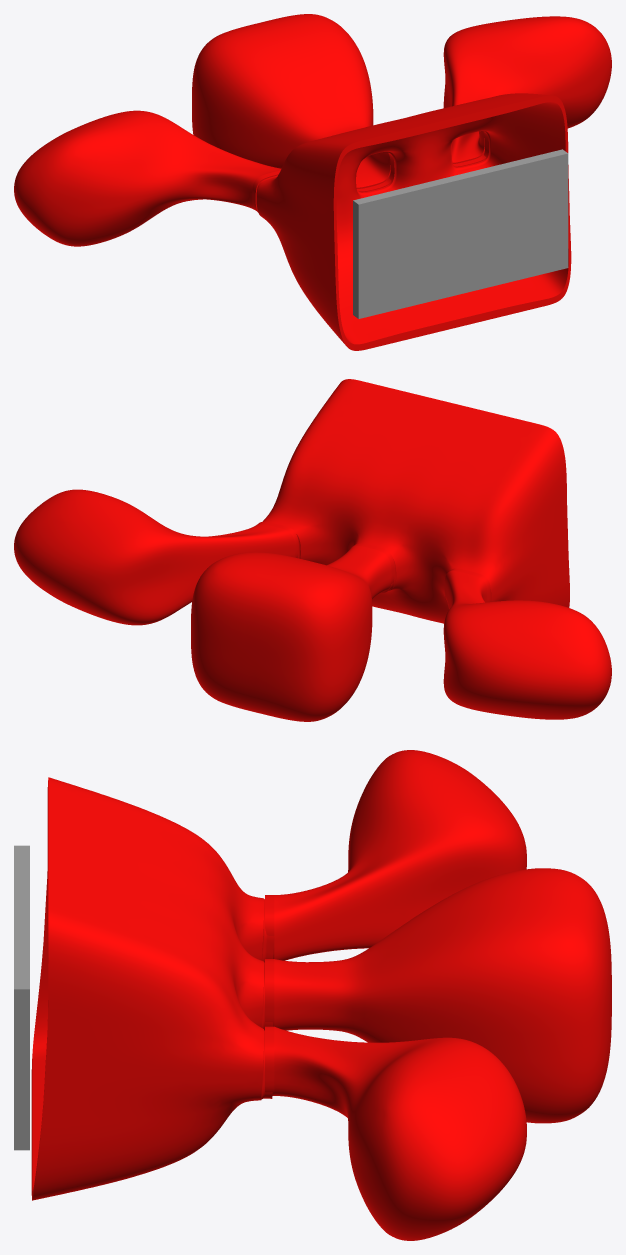
Rendered from bloblamp.glb.
3 renders of one model, top to bottom at view 1: azimuth 30°, elevation 25°; view 2: azimuth 150°, elevation 25°; view 3: azimuth 270°, elevation 25°, orthographic. The views are drawn at different scales.
Visible parts, largest first — view 1: bloblamp v1; view 2: bloblamp v1; view 3: bloblamp v1.
Boxes of the visible parts, x1,y1,x2,y2 form: bloblamp v1: (14, 14, 611, 350); bloblamp v1: (14, 379, 611, 721); bloblamp v1: (14, 750, 611, 1240).
Bounding box in the file's own units: 0.5989 × 0.1994 × 0.376.
